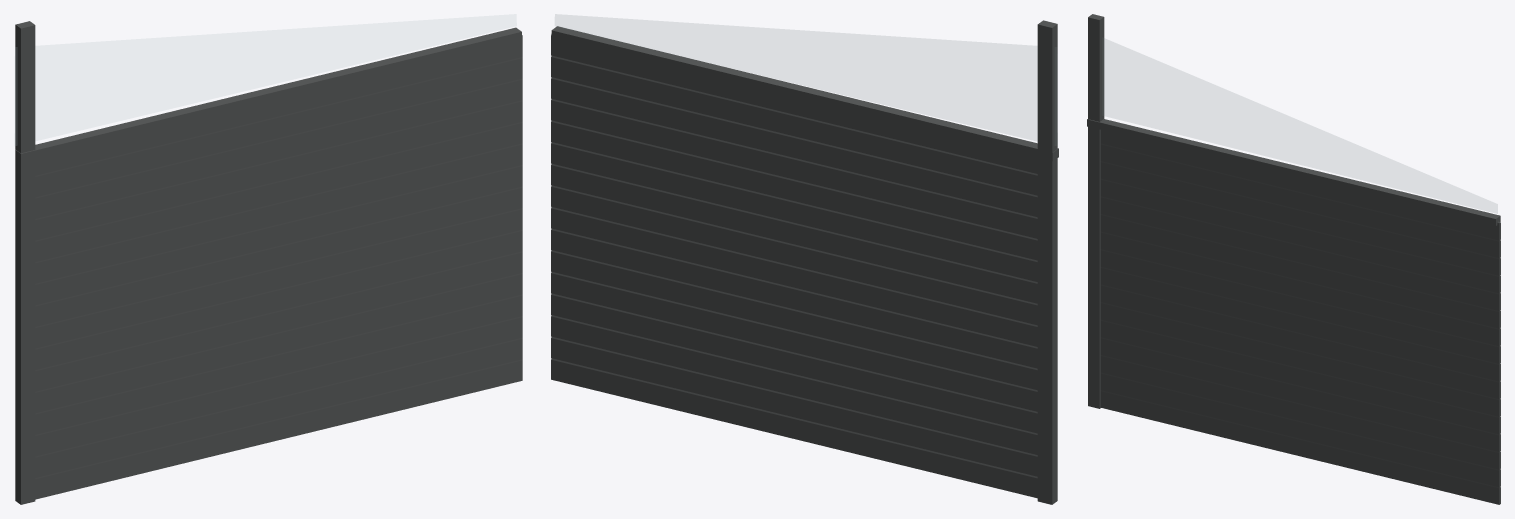
Rendered from Cynaluminslop2GREY.glb.
3 renders of one model, left to right at view 1: azimuth 30°, elevation 25°; view 2: azimuth 150°, elevation 25°; view 3: azimuth 330°, elevation 25°, orthographic. The views are drawn at different scales.
Visible parts, largest first — view 1: wall, triangler, Cube.006, Cube.003; view 2: wall, triangler, Cube.006, Cube.003; view 3: wall, triangler, Cube.006, Cube.003.
Part boxes in pixels (x1,y1,x2,y2): wall: (35, 35, 522, 499); triangler: (15, 14, 516, 145); Cube.006: (15, 21, 35, 504); Cube.003: (15, 27, 521, 162); wall: (551, 34, 1037, 498); triangler: (555, 14, 1057, 145); Cube.006: (1037, 20, 1057, 504); Cube.003: (551, 26, 1058, 160); wall: (1100, 130, 1500, 504); triangler: (1103, 38, 1497, 213); Cube.006: (1088, 14, 1104, 408); Cube.003: (1087, 119, 1500, 226).
Bounding box in the file's own units: 2.91 × 2.61 × 0.0613.
